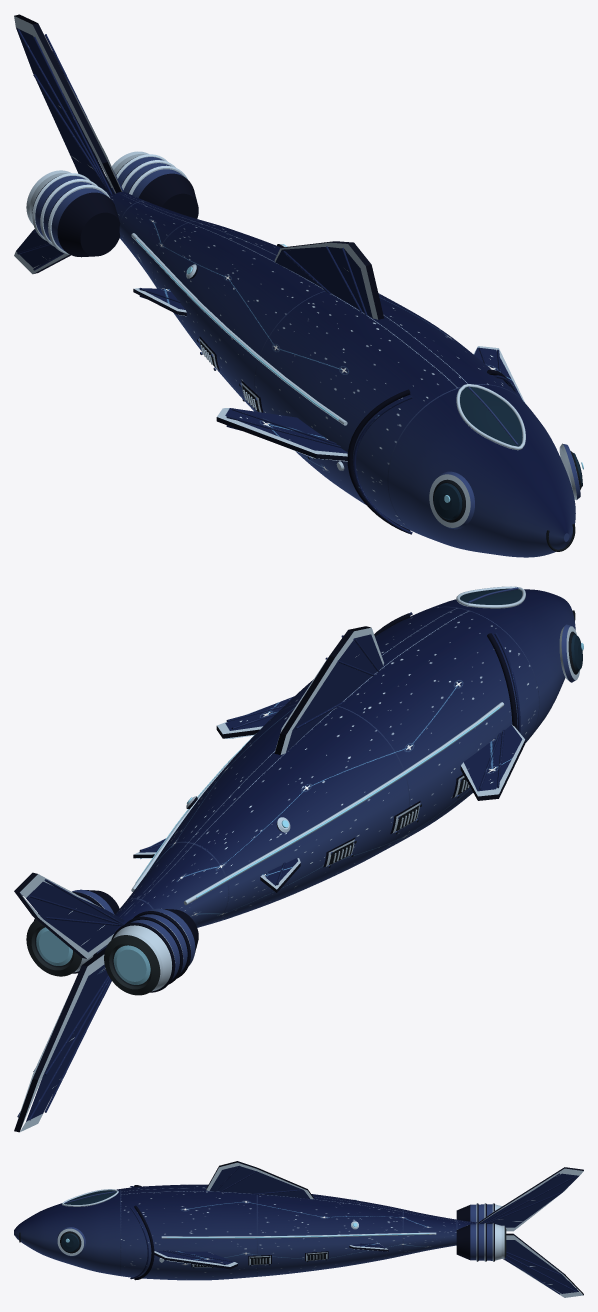
The picture shows the model from 3 angles, top to bottom: view 1: azimuth 30°, elevation 25°; view 2: azimuth 150°, elevation 25°; view 3: azimuth 270°, elevation 25°; orthographic projection. The views are drawn at different scales.
Visible parts, largest first — view 1: sardine_hull; view 2: sardine_hull; view 3: sardine_hull.
Part boxes in pixels (bbox=[...]): sardine_hull: bbox=[14, 14, 583, 557]; sardine_hull: bbox=[14, 586, 583, 1132]; sardine_hull: bbox=[14, 1161, 583, 1297].
Size of the model in its own units: 4.8 by 4.25 by 16.2.
1 material, 1 textured.
